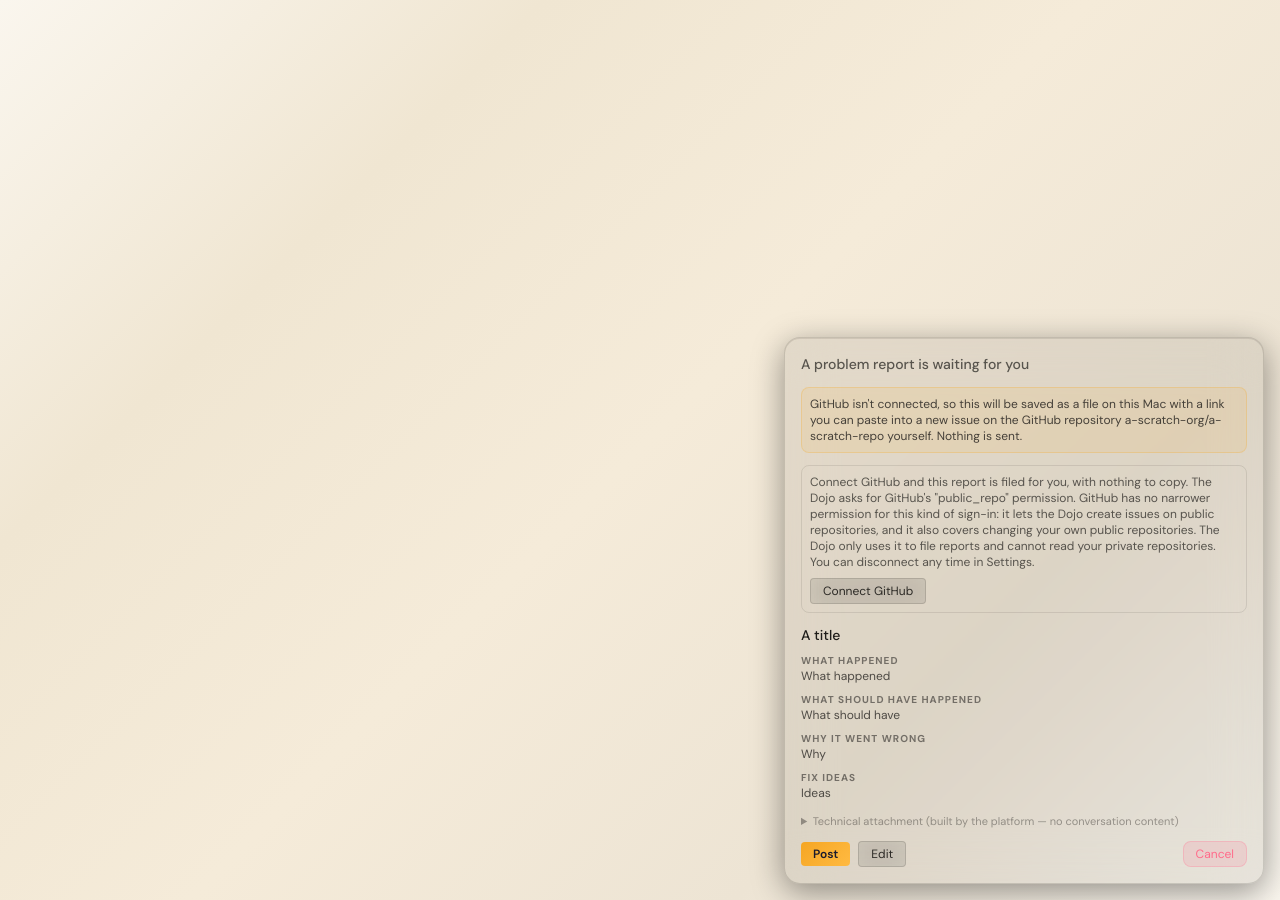
Test: an unconnected box is offered Connect GitHub on the report card › a refused sign-in says so instead of spinning
Expected: the text "A title" is shown, [801,626,840,644]
Click the button "Connect GitHub". click: x=868, y=590
box: [810,578,926,604]
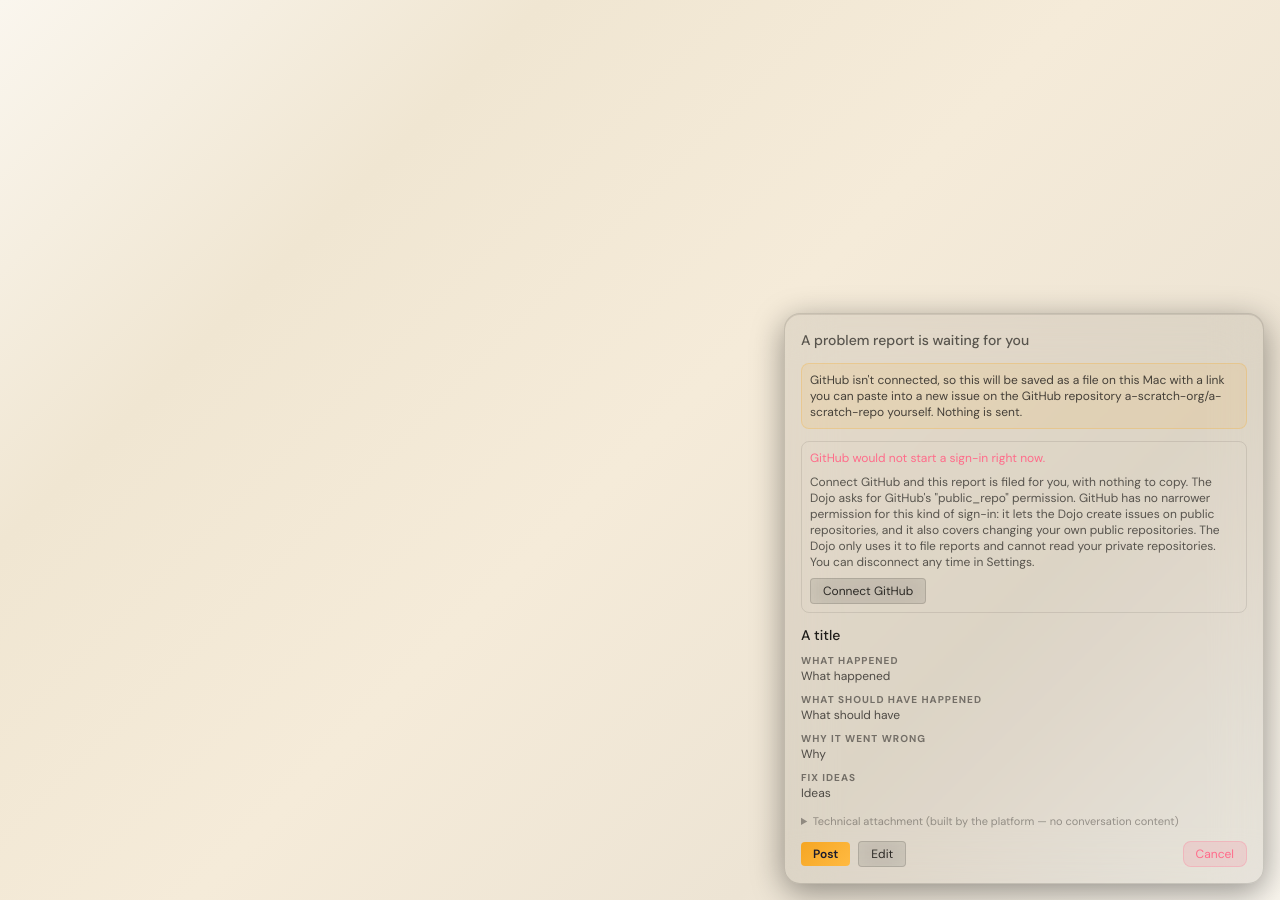
Expected: the text "GitHub would not start a sign-in right now." is shown, [810,450,1045,466]
